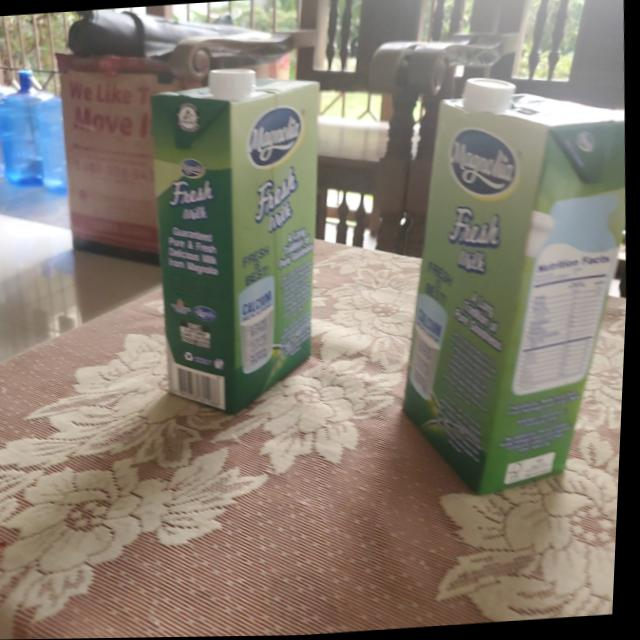milk: (386, 72, 637, 498), (140, 63, 339, 423)
